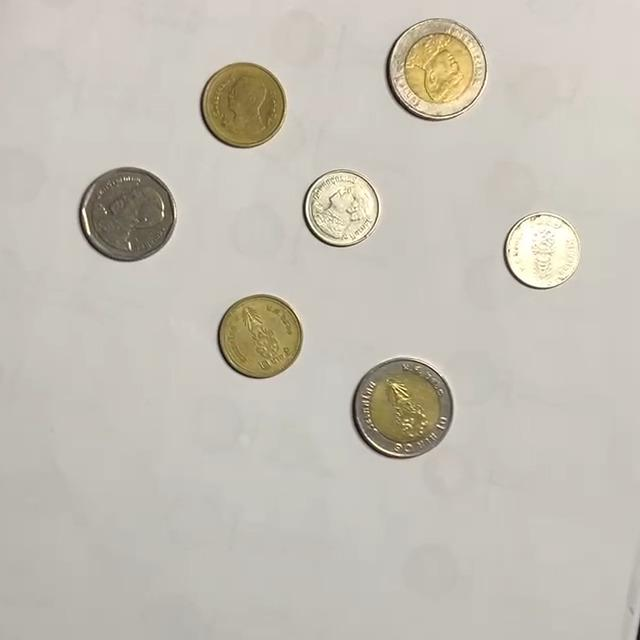1-baht: (504, 211, 584, 290), (303, 170, 381, 248)
10-baht: (387, 16, 489, 118), (352, 358, 454, 457)
2-baht: (201, 61, 288, 148), (218, 295, 304, 379)
5-baht: (80, 167, 178, 261)
